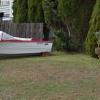Tree: (36, 3, 100, 49)
